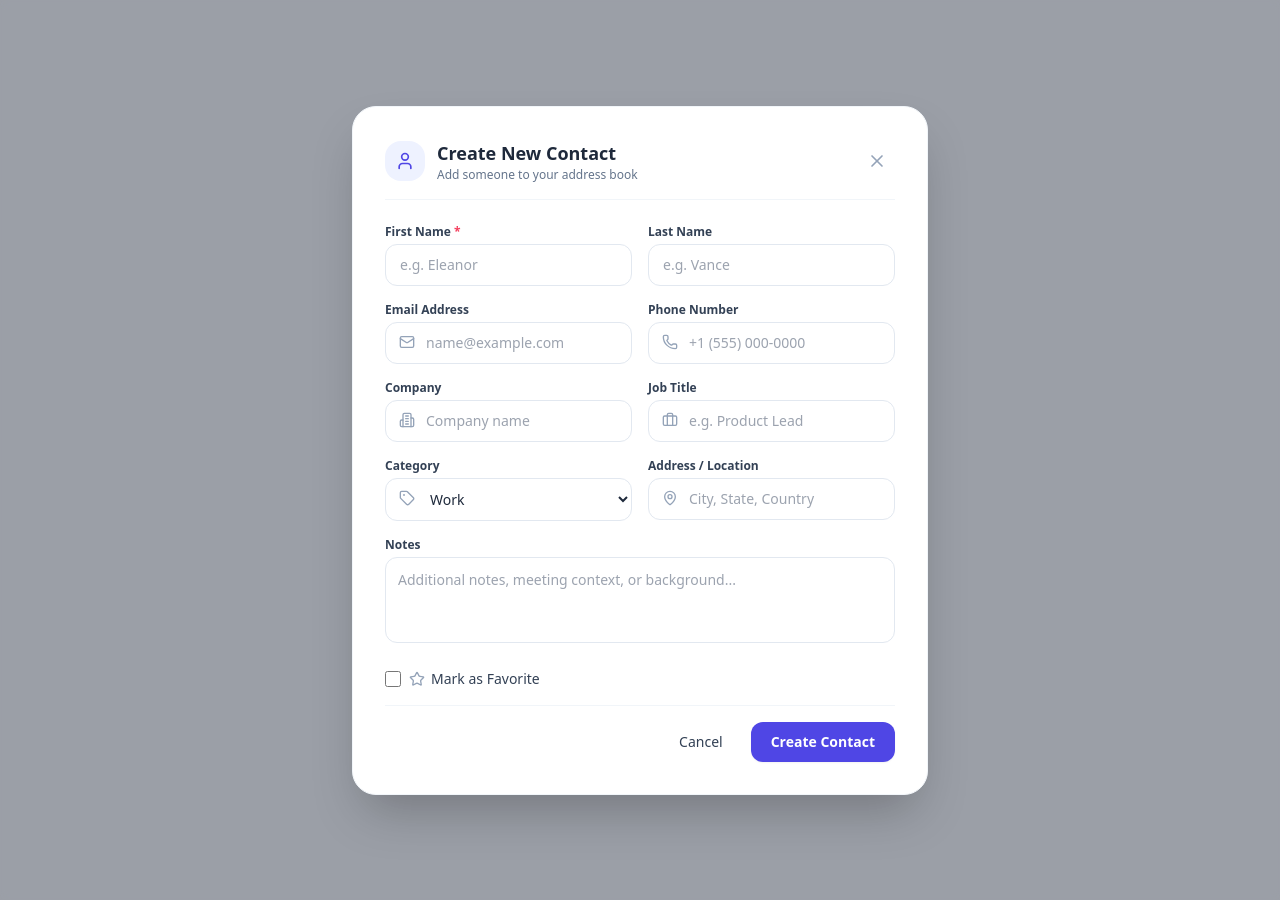
ContactModal Component Validation & Submission › validates email format on submission if invalid email entered
Type "Eleanor" into the field with placeholder "e.g. Eleanor".
click(508, 264); type("Eleanor")  # box [385,244,632,286]
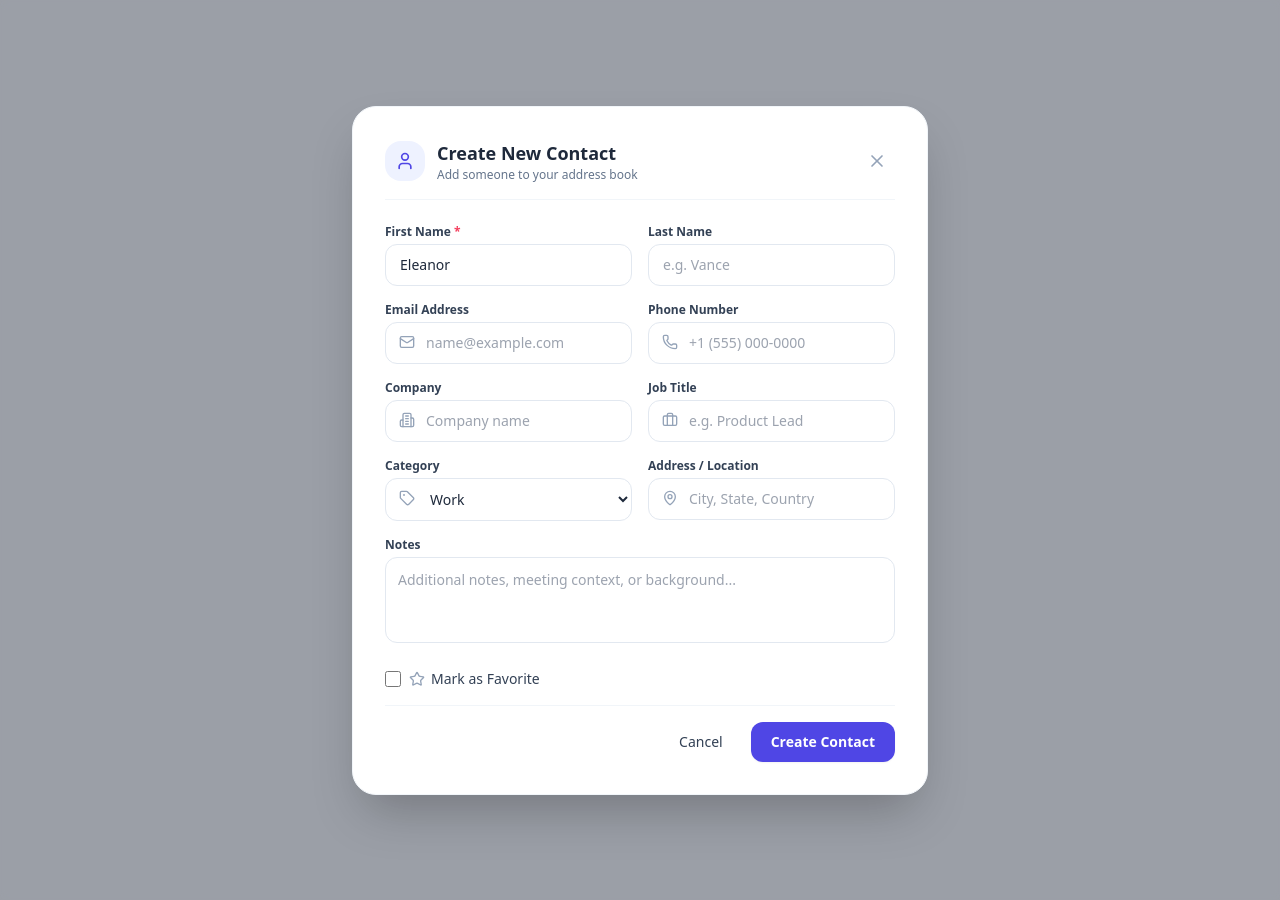
Type "not-valid-email" into the field with placeholder "name@example.com".
click(508, 342); type("not-valid-email")  # box [385,322,632,364]
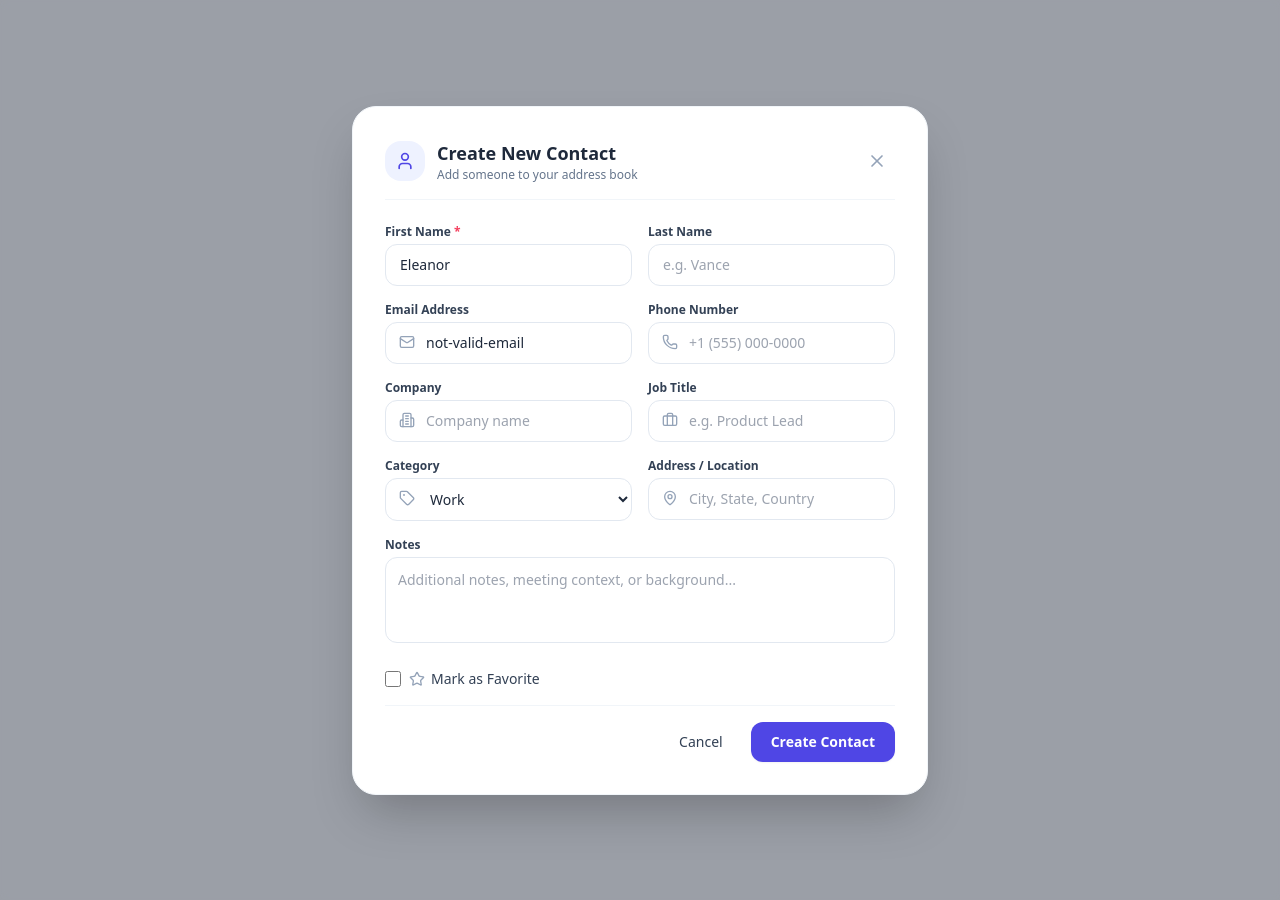
Submit the form named "create contact", box [385,224,895,762]
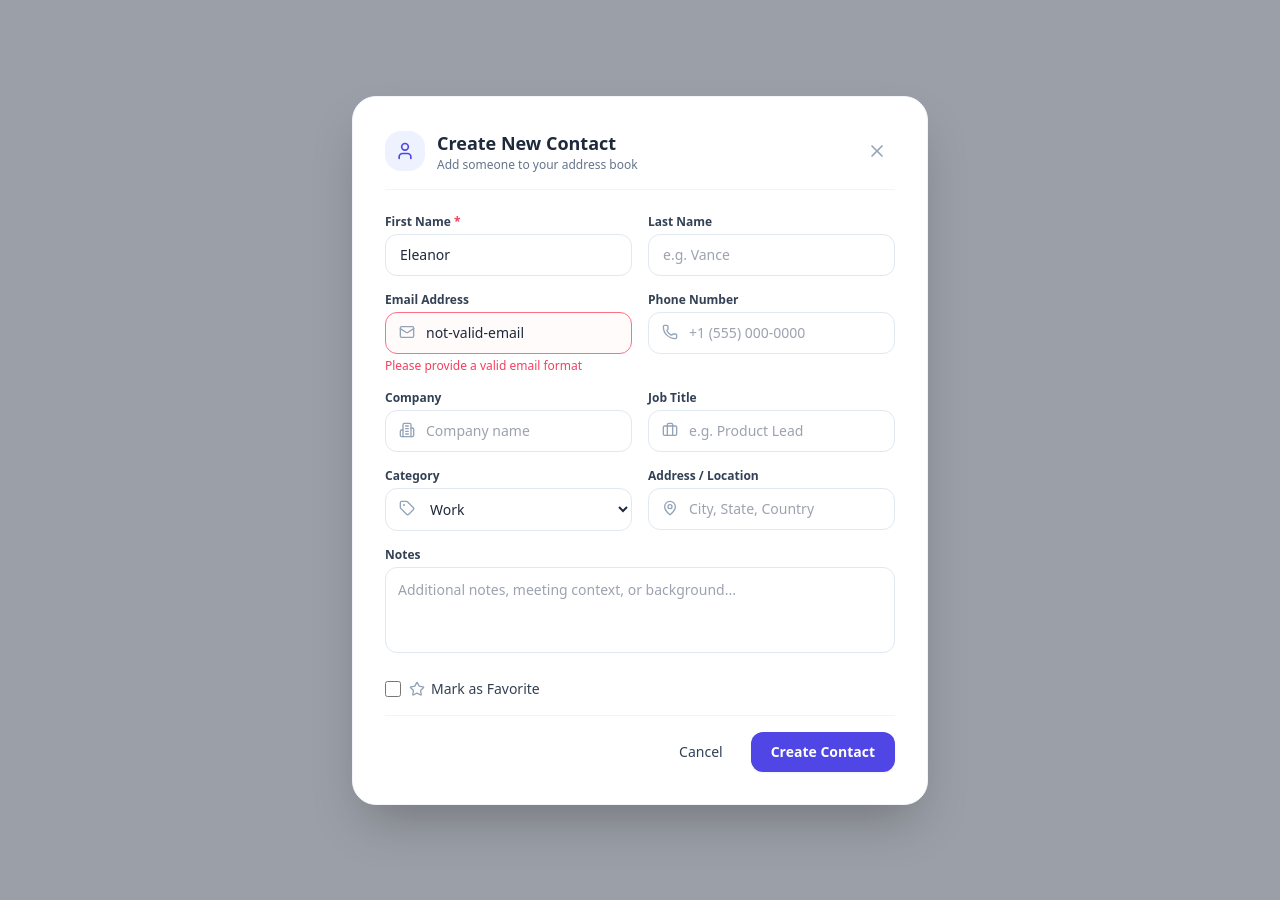
Check: the text "Please provide a valid email format" is shown, box [385,356,582,374]
